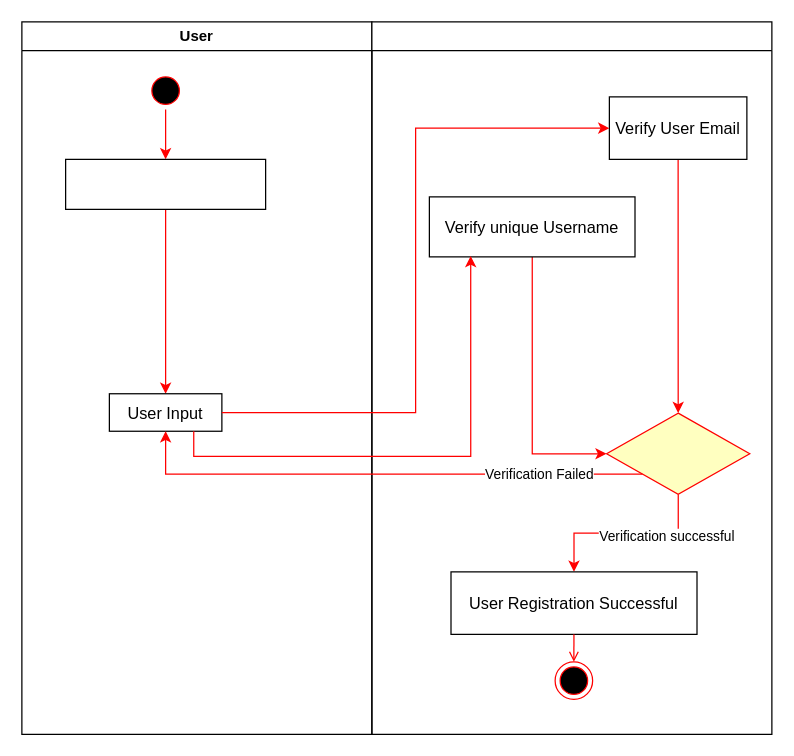
Some shapes in this 794 by 756 pixel diagram are drawn without their labels. The box of each missing label's shape, as (x1, y1, x2, y2) in pixels:
User Account Registration: (64, 158, 266, 209)
User Management System (UM): (371, 21, 772, 734)
Verification: (605, 412, 750, 494)
